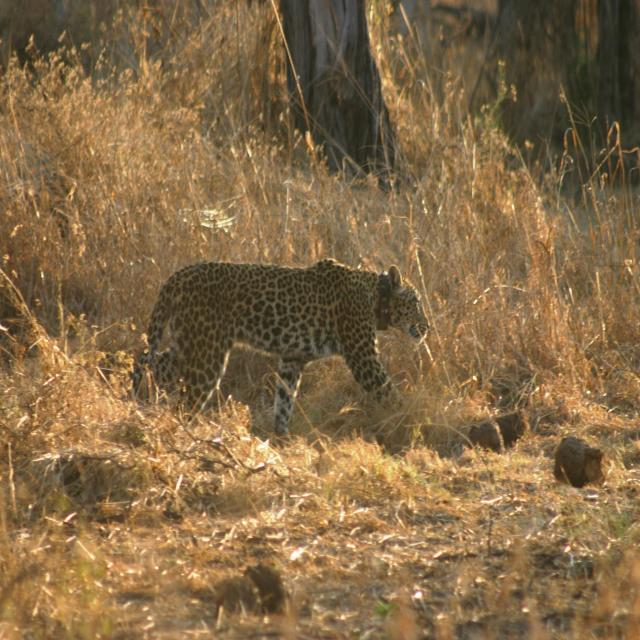Leopard: (116, 251, 430, 441)
